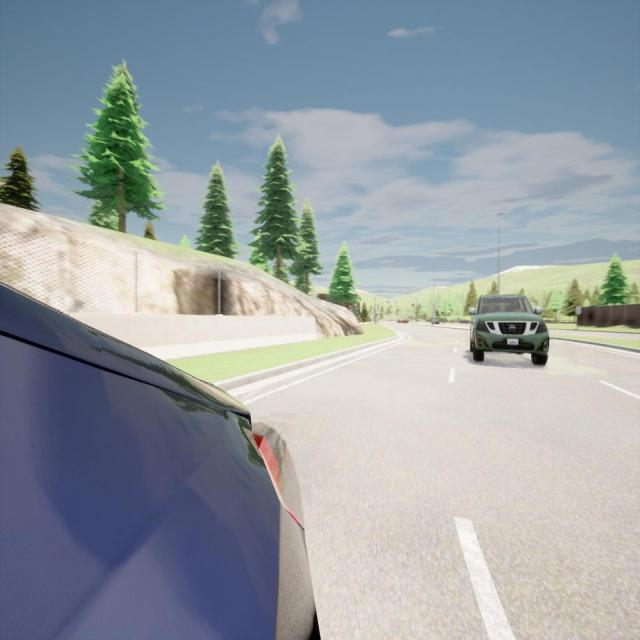Traffic_Signs: (576, 305, 581, 315)
Vehicle: (0, 282, 323, 640), (469, 294, 549, 365), (398, 317, 410, 324), (432, 317, 441, 326)
